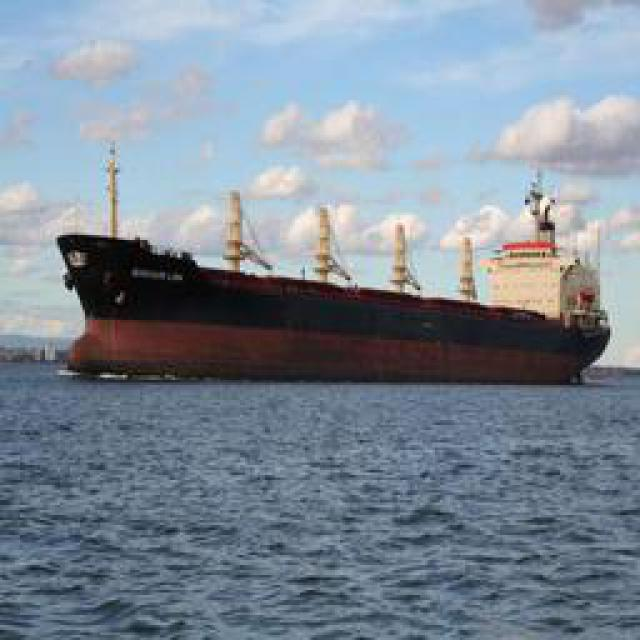Ship: (37, 216, 617, 386)
